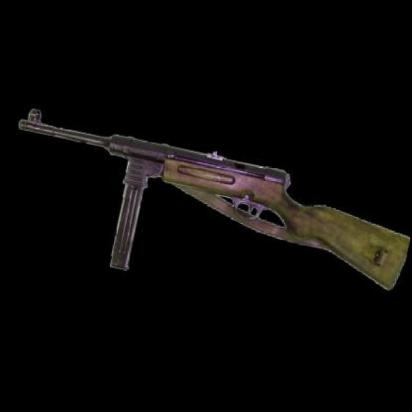Gun: (0, 84, 412, 335)
